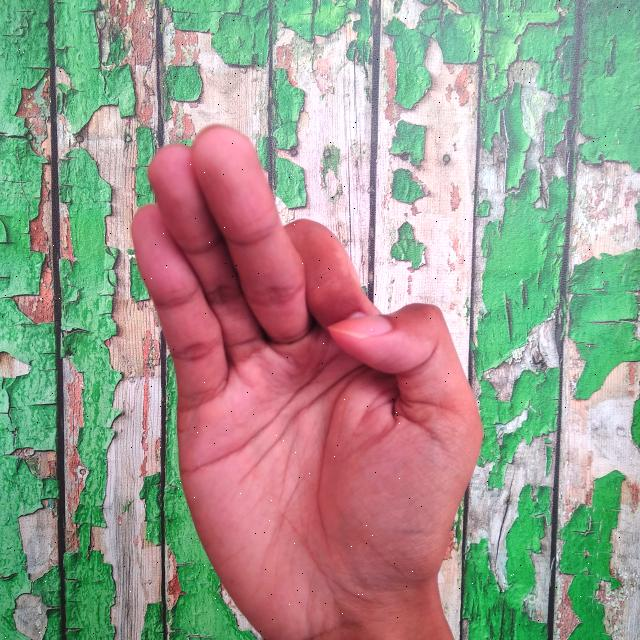F: (131, 119, 484, 640)
